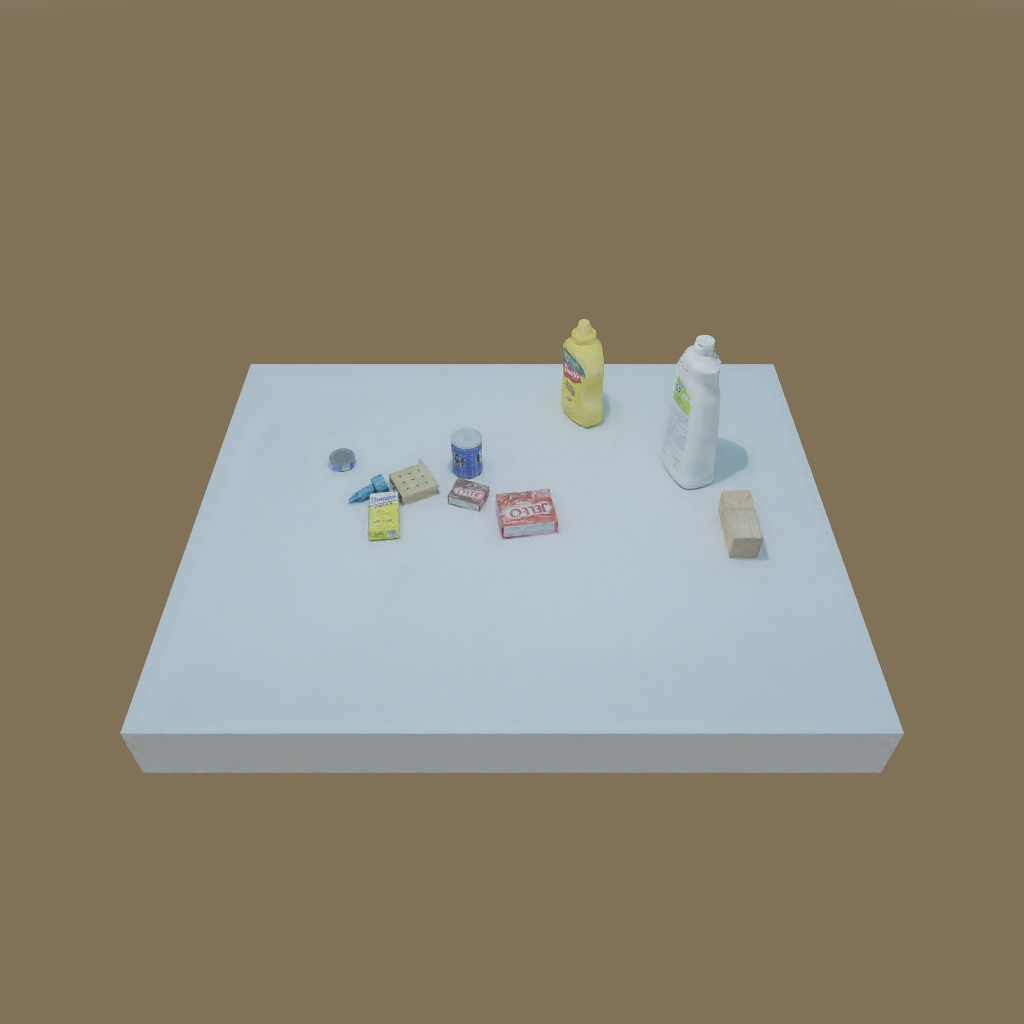gelatin_box: (493, 491, 557, 544)
master_chef_can: (442, 424, 491, 482)
mustard_bottle: (557, 317, 607, 429)
nine_hole_peg_test: (390, 458, 441, 506)
pudding_box: (445, 480, 493, 509)
wood_block: (714, 485, 769, 561)
